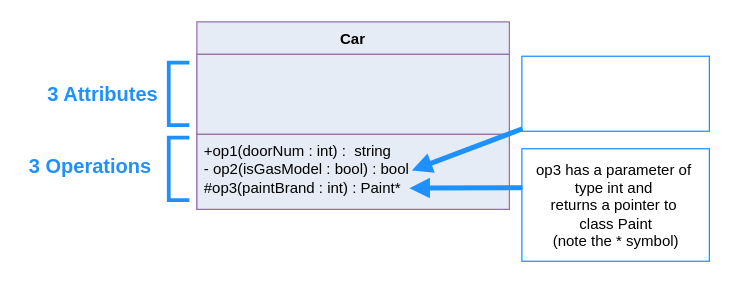
The diagram is 731 pixels wide and 284 high, and some of its shapes have lost their labels. Each missing label, with the centre of its shape:
- saveGas() : bool + numOfDoors() : int # paintBrand(): Paint: the point at 352,93
op2 has a parameter of type int and returns a type bool: the point at 615,93
